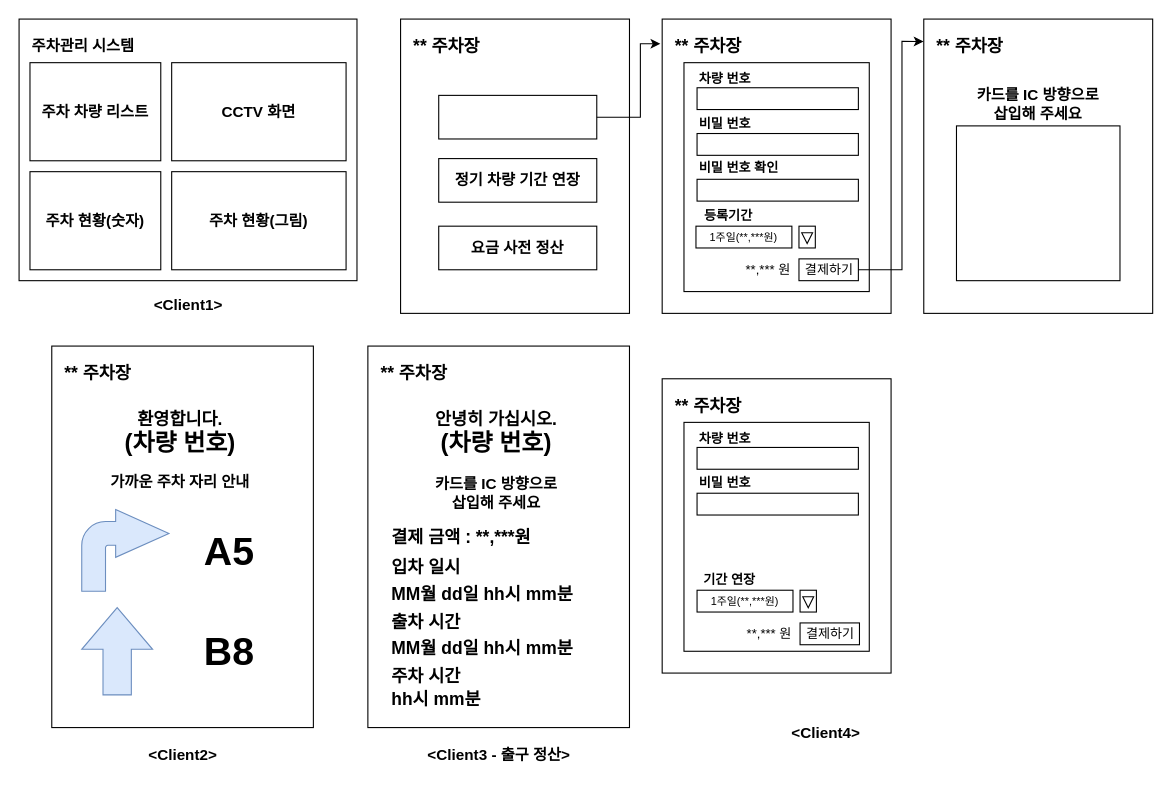
Image size: 1172x790. Some labels were removed from this diagram. The shapes that lost their labels are listed below. From the top down, each one's box as (x1, y1, x2, y2) in pixels, then its label:
(438, 94, 597, 139): 정기 차량 등록
(955, 125, 1120, 281): 그림
